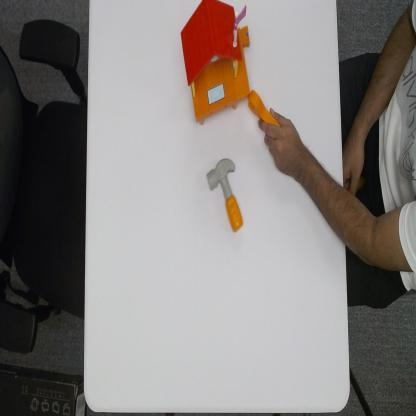Arm: (305, 150, 416, 277)
Hammer: (206, 154, 245, 236)
Hand: (257, 107, 305, 182)
House: (179, 0, 251, 126)
Screwdriver: (247, 88, 280, 125)
